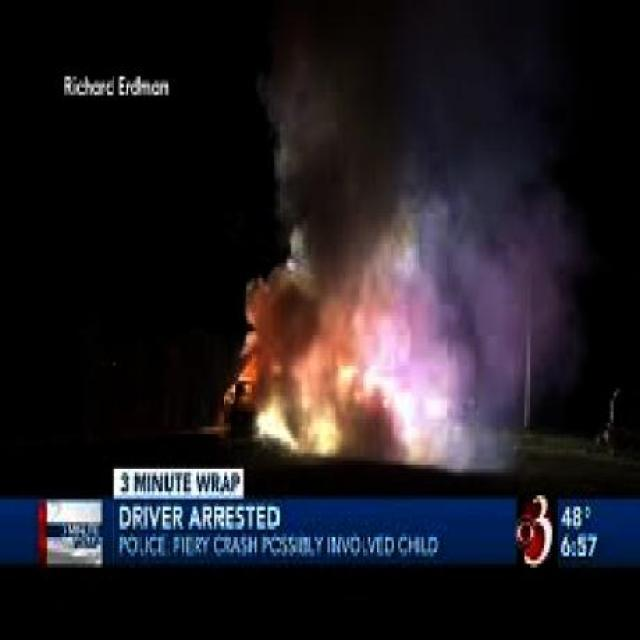Fire: (238, 328, 402, 461)
Smoke: (244, 28, 582, 466)
